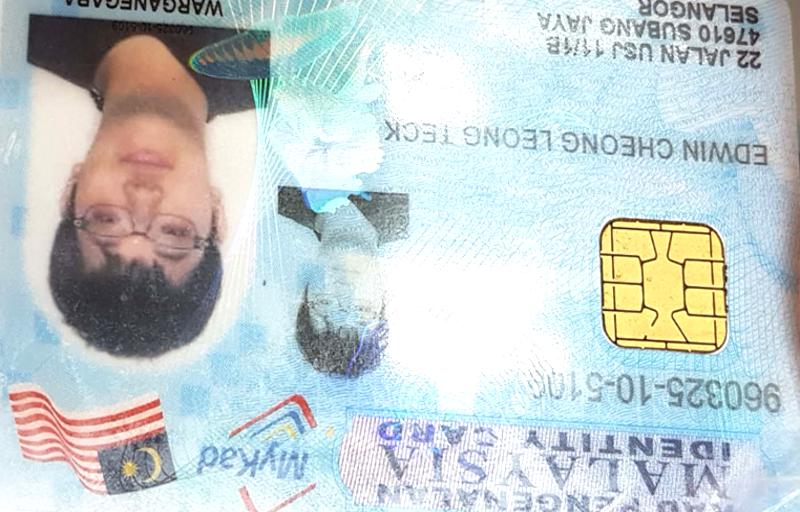hologramB: (268, 1, 378, 186)
